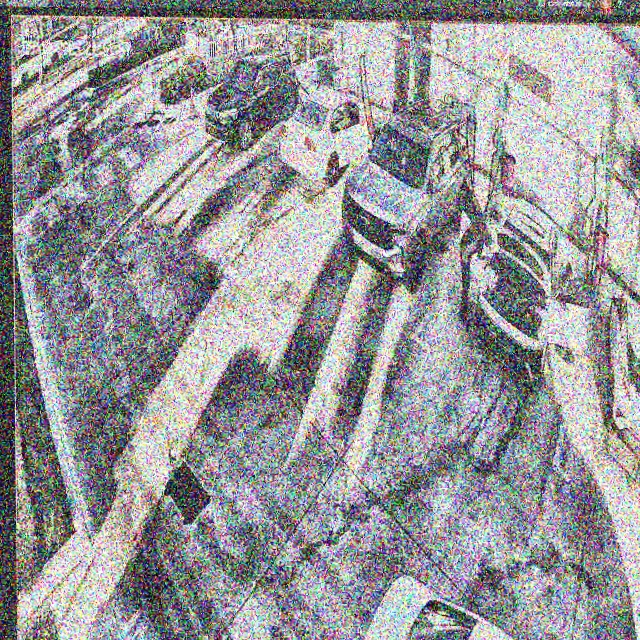Car: (340, 101, 479, 294), (462, 192, 592, 379), (280, 86, 383, 184)
